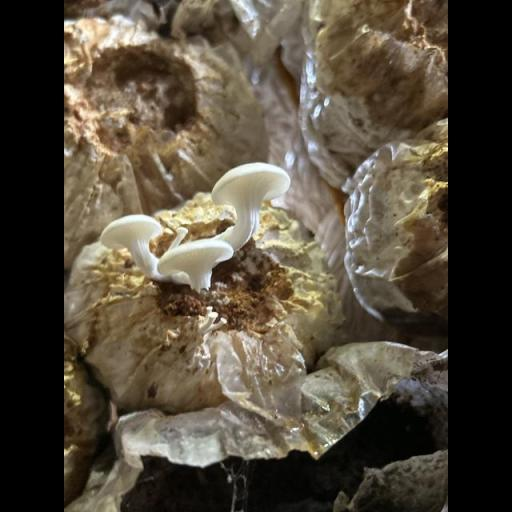White Oyster Mushroom: (102, 161, 292, 291)
